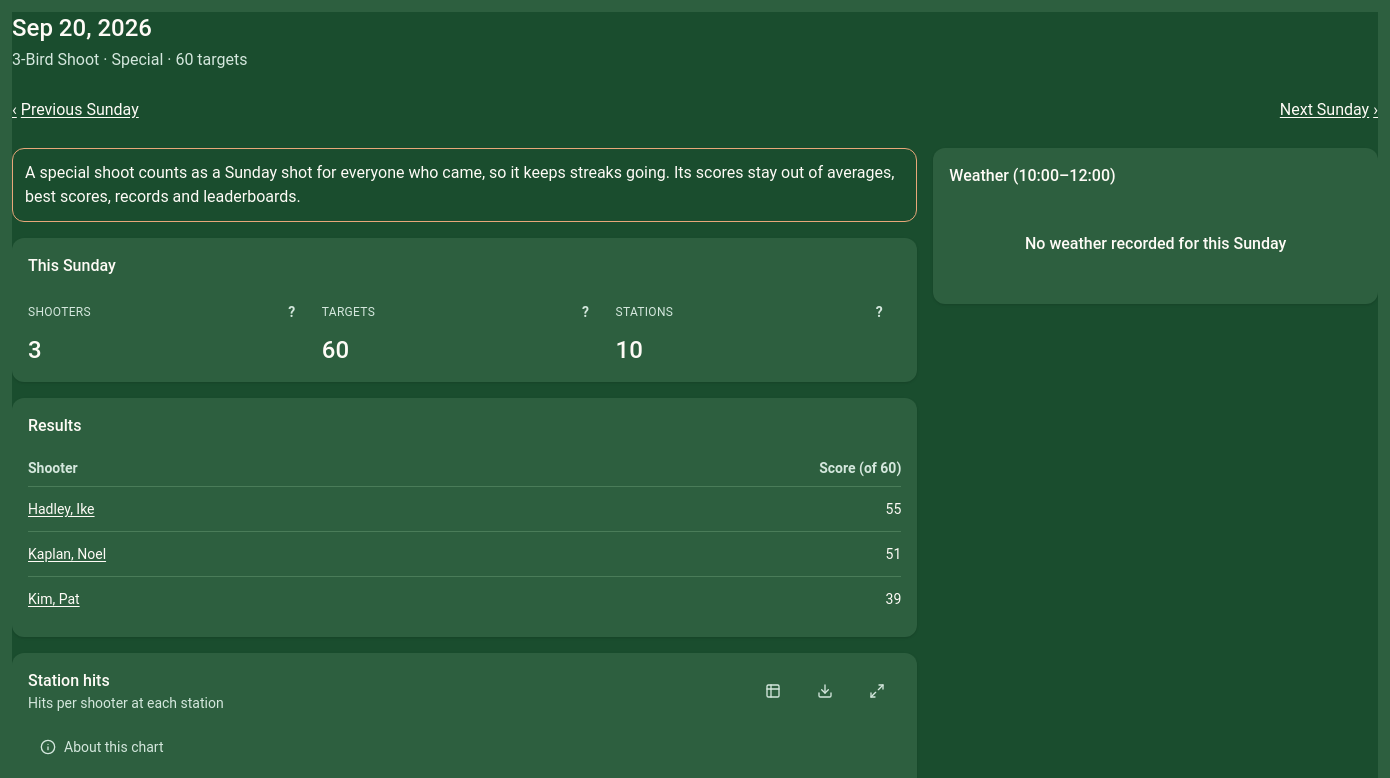
EventDetailPage › a special Sunday (Plan 17) › explains special shoots once, and explains Stations
Check: the table named "Results" is shown, box x1=28 y1=450 x2=901 y2=621
Check: the number of buttons "?" is 1, box x1=564 y1=290 x2=608 y2=334
Click the button named "About Stations": {"x": 879, "y": 312} x1=857 y1=290 x2=901 y2=334
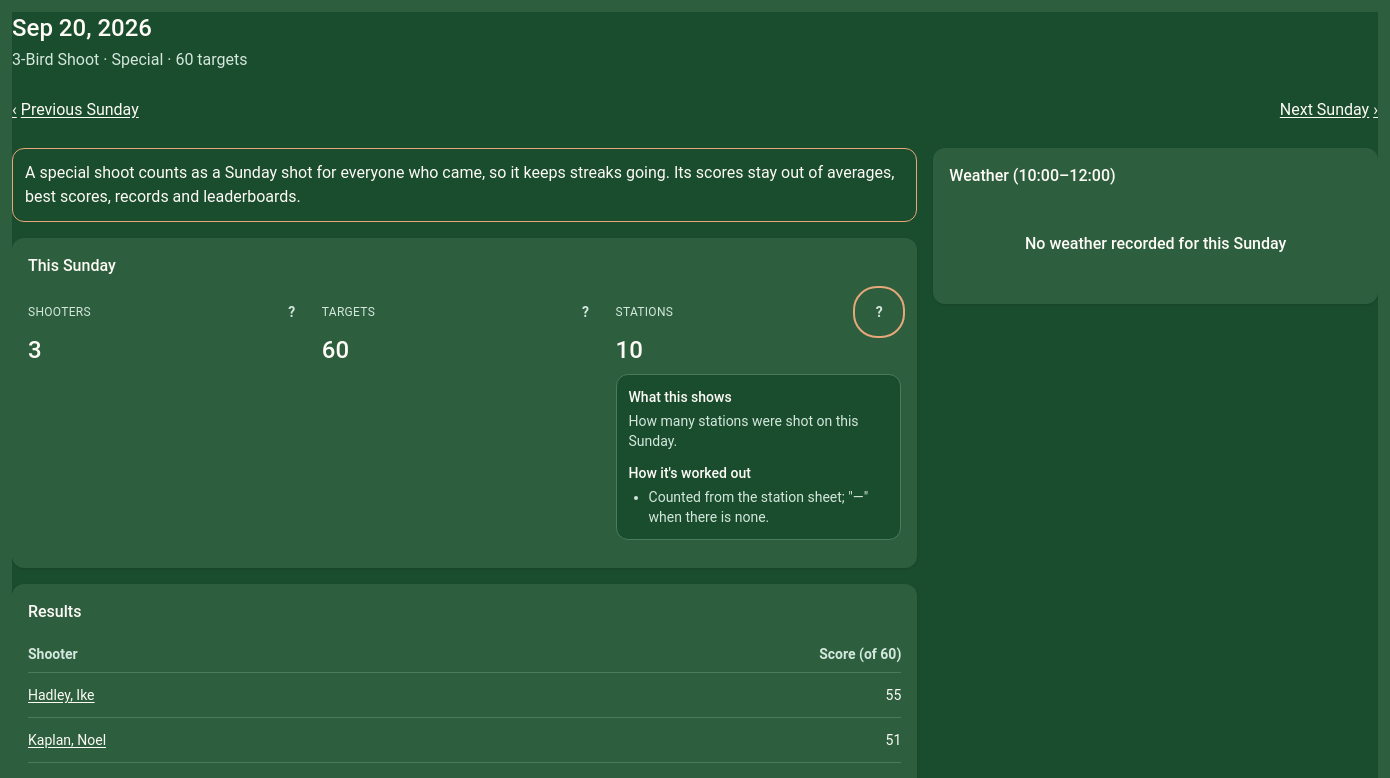
Check: the button named "About Stations" is expanded
Check: the heading "What this shows" is shown, box x1=628 y1=389 x2=732 y2=405
Check: the heading "How it's worked out" is shown, box x1=628 y1=465 x2=751 y2=481
Click the button named "About Stations": {"x": 879, "y": 312} x1=857 y1=290 x2=901 y2=334
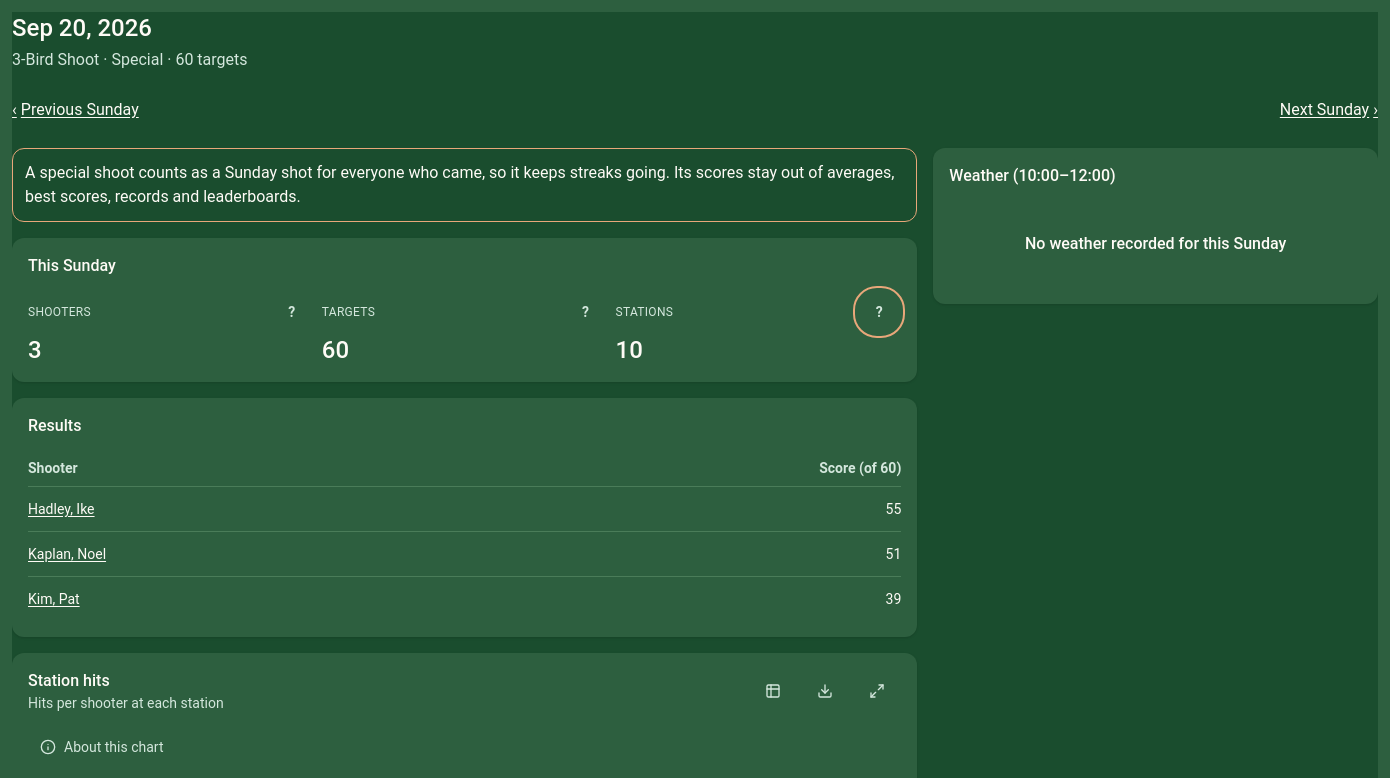
Check: the heading "What this shows" is gone
